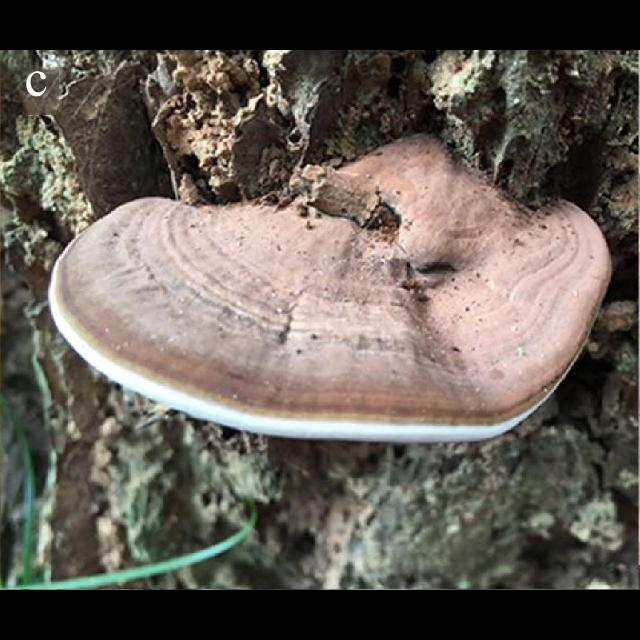ganoderma: (50, 131, 619, 447)
